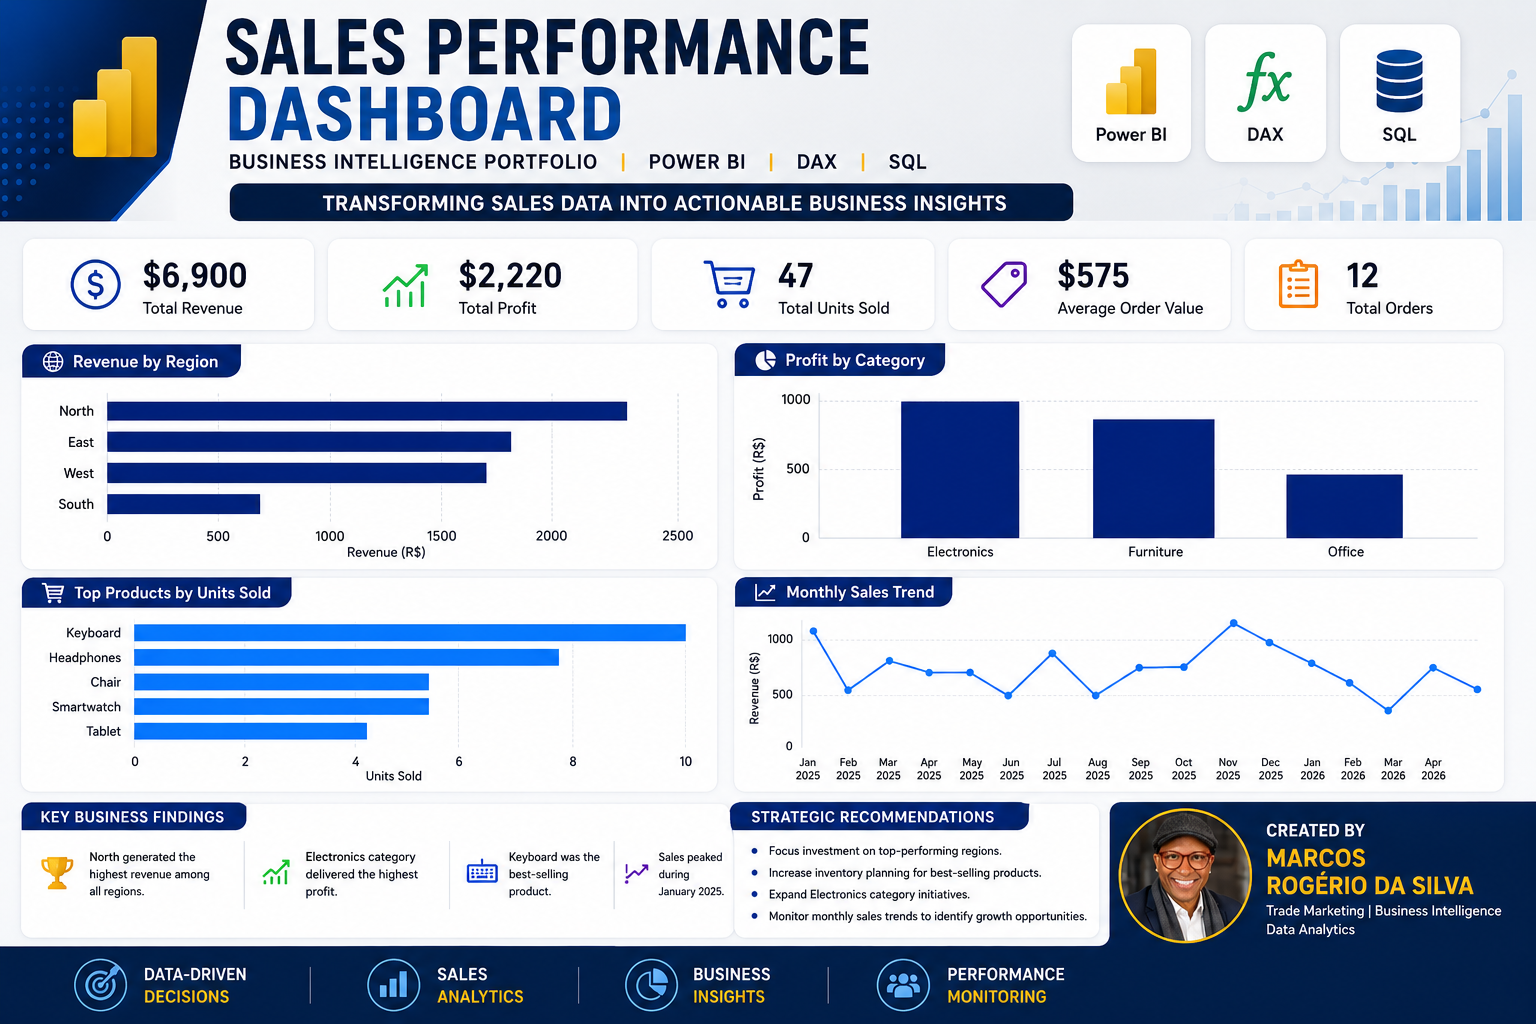

The dashboard page shown, as its layout file describes it:
{"tool":"powerbi","page":{"name":"Page 1","canvas":[1280,720],"ordinal":0},"visuals":[{"type":"cardVisual","fields":{"Data":["Sales_Data.Total Revenue"]},"box":[50.4,92.4,173,102.5],"z":0},{"type":"cardVisual","fields":{"Data":["Sales_Data.Total Profit"]},"box":[295.6,92.4,164.6,102.5],"z":1000},{"type":"cardVisual","fields":{"Data":["Sales_Data.Total Units Sold"]},"box":[534.2,92.4,183.1,102.5],"z":2000},{"type":"cardVisual","fields":{"Data":["Sales_Data.Average Order Value"]},"box":[786.1,92.4,213.3,102.5],"z":3000},{"type":"cardVisual","fields":{"Data":["Sales_Data.Total Orders"]},"box":[1065,90.7,166.3,102.5],"z":4000},{"type":"clusteredBarChart","title":"Revenue by Region","fields":{"Category":["Sales_Data.Region"],"Y":["Sum(Sales_Data.Sales)"]},"box":[0,199.9,626.6,268.8],"z":5000},{"type":"clusteredColumnChart","title":"Profit by Category","fields":{"Category":["Sales_Data.Category"],"Y":["Sales_Data.Total Profit"]},"box":[651.8,199.9,628.2,268.8],"z":6000},{"type":"clusteredBarChart","title":"Top Products by Units Sold","fields":{"Category":["Sales_Data.Product"],"Y":["Sum(Sales_Data.Quantity)"]},"box":[0,475.4,626.6,245.2],"z":7000},{"type":"lineChart","title":"Monthly Sales Trend","fields":{"Category":["Sales_Data.Date.Variation.Date Hierarchy.Year","Sales_Data.Date.Variation.Date Hierarchy.Quarter","Sales_Data.Date.Variation.Date Hierarchy.Month","Sales_Data.Date.Variation.Date Hierarchy.Day"],"Y":["Sum(Sales_Data.Sales)"]},"box":[652,475,628,245],"z":8000},{"type":"textbox","box":[0,0,1280,84],"z":9000}]}

Visuals, with their boxes on the page's 1280x720 design canvas (x1, y1, x2, y2). These are canvas units, not pixel positions in the 1536x1024 screenshot, which may show the page scaled, cropped or inside an application window:
cardVisual - Sales_Data.Total Revenue: detection(50, 92, 223, 195)
cardVisual - Sales_Data.Total Profit: detection(296, 92, 460, 195)
cardVisual - Sales_Data.Total Units Sold: detection(534, 92, 717, 195)
cardVisual - Sales_Data.Average Order Value: detection(786, 92, 999, 195)
cardVisual - Sales_Data.Total Orders: detection(1065, 91, 1231, 193)
"Revenue by Region" clusteredBarChart: detection(0, 200, 627, 469)
"Profit by Category" clusteredColumnChart: detection(652, 200, 1280, 469)
"Top Products by Units Sold" clusteredBarChart: detection(0, 475, 627, 721)
"Monthly Sales Trend" lineChart: detection(652, 475, 1280, 720)
textbox: detection(0, 0, 1280, 84)
